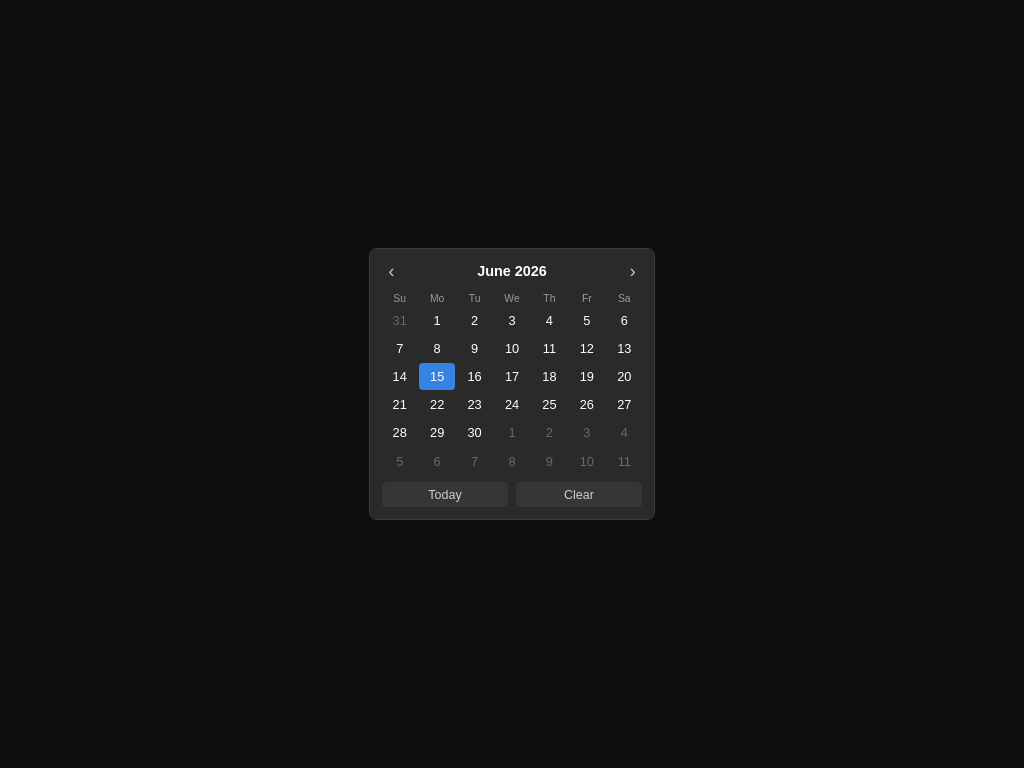
Scenario: DatePicker › navigates months
What coordinates should you click on to do the following:
click the button named "Next month"
I would click on:
 (633, 271)
Its box is x1=623 y1=261 x2=642 y2=282.
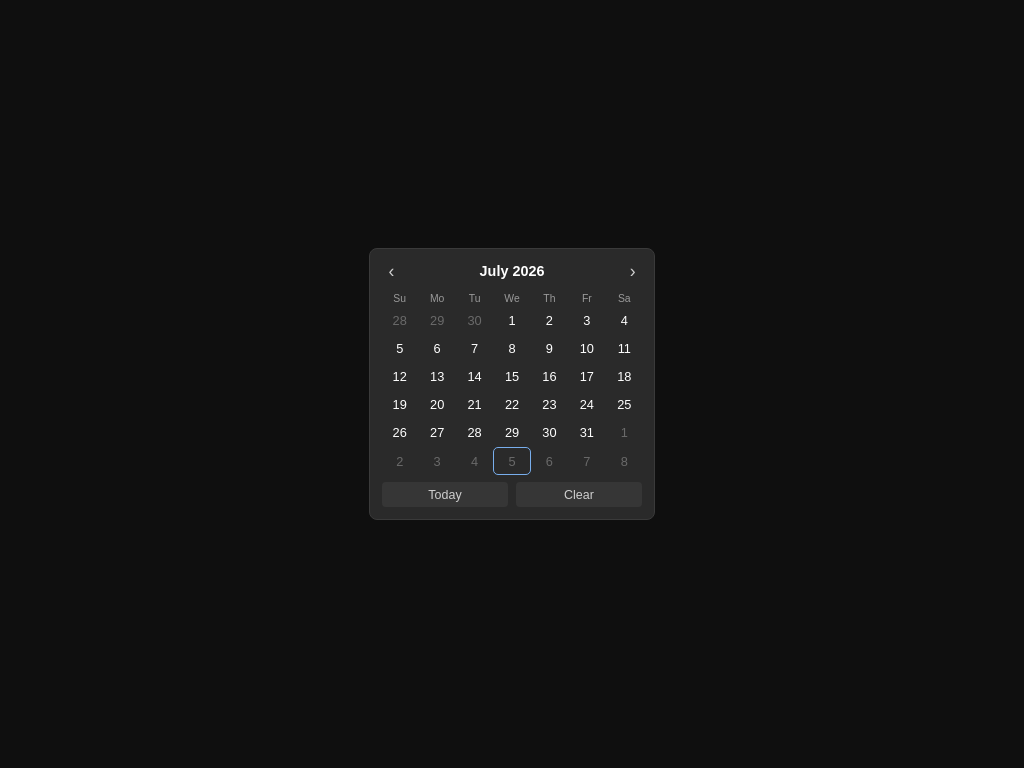
Expected: the text "July 2026" is shown, x1=480 y1=263 x2=544 y2=279
What coordinates should you click on to do the following:
click the button named "Previous month"
I would click on:
 (391, 271)
Its box is x1=382 y1=261 x2=401 y2=282.
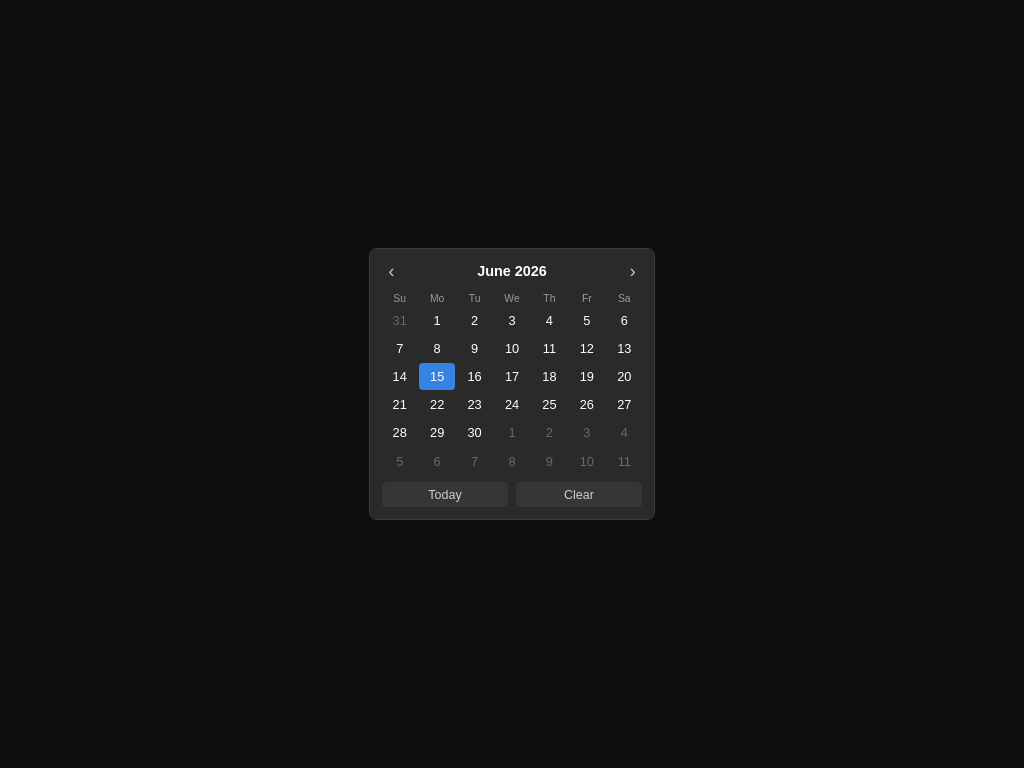
What coordinates should you click on to do the following:
click the button named "Previous month"
I would click on:
 (391, 271)
Its box is x1=382 y1=261 x2=401 y2=282.
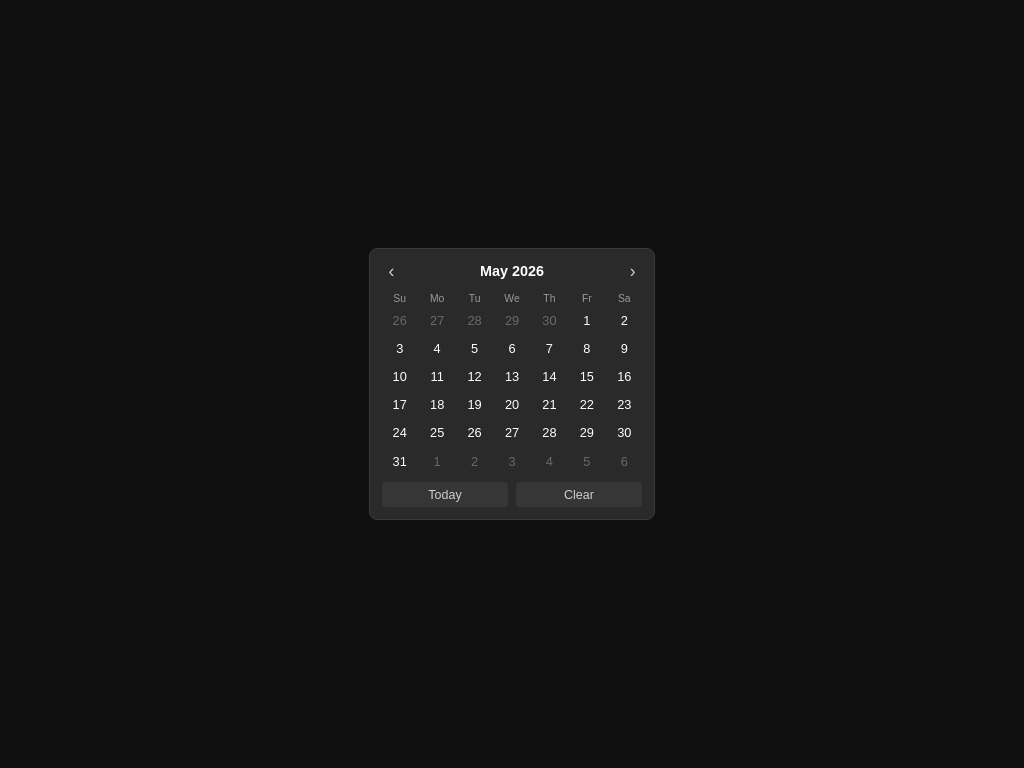
Expected: the text "May 2026" is shown, x1=480 y1=263 x2=544 y2=279
